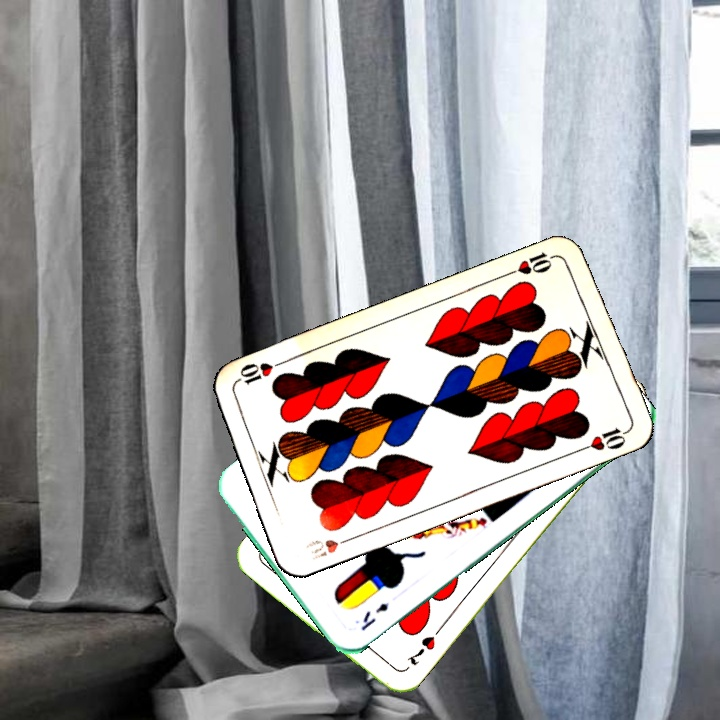EK: (357, 598, 392, 633)
H10: (503, 248, 561, 278), (302, 532, 358, 563)
H7: (402, 624, 444, 669)
